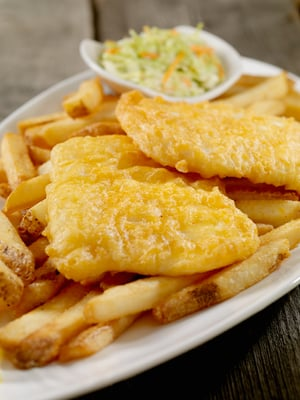sushi: (79, 25, 244, 105)
